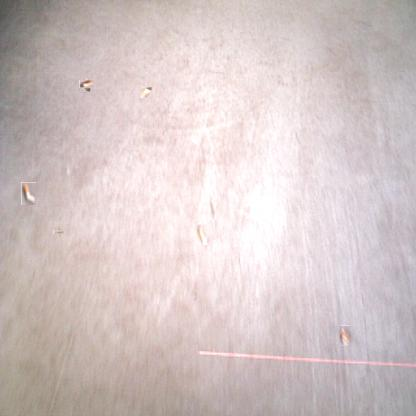dirty: (21, 182, 36, 205), (196, 224, 208, 245), (340, 325, 350, 346), (139, 86, 153, 98), (81, 79, 93, 90)
mark: (209, 200, 216, 220), (55, 229, 63, 236)
